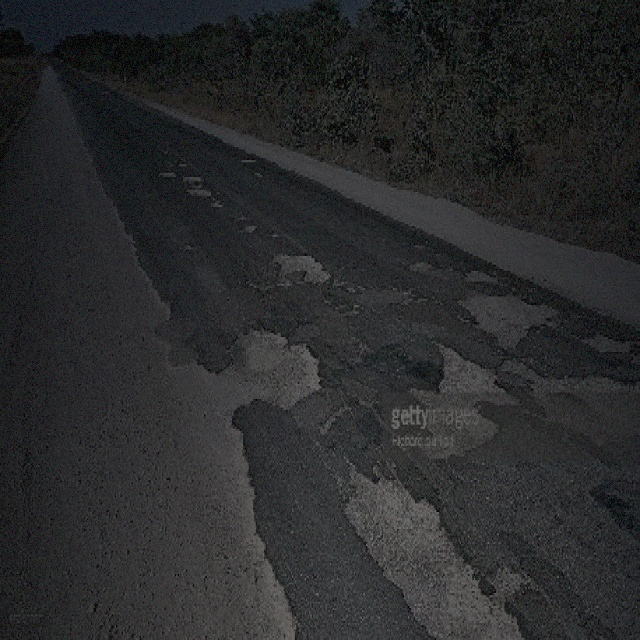pothole: (340, 465, 530, 638), (219, 320, 323, 410), (455, 286, 559, 345), (429, 335, 504, 395), (271, 247, 330, 288), (573, 329, 633, 354), (182, 182, 211, 200), (157, 166, 176, 177)
